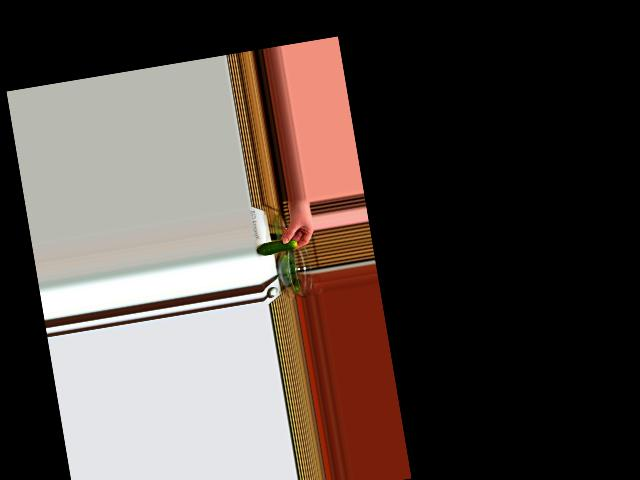cucumber: (256, 237, 298, 256)
